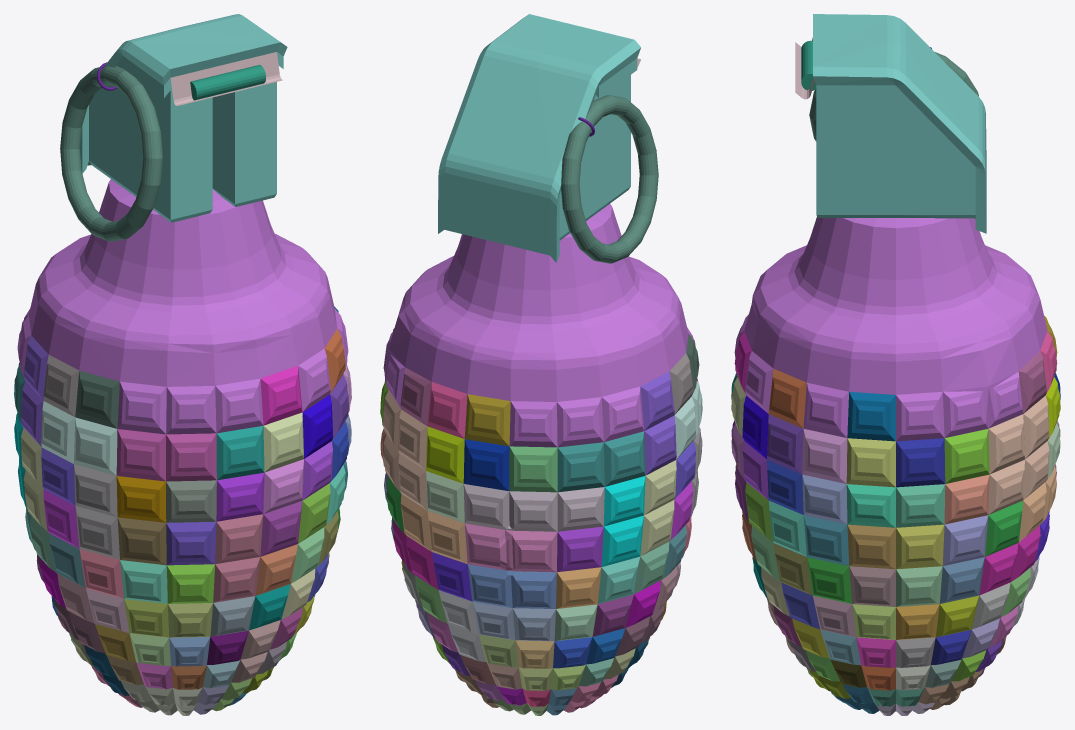
3 views of the same model, side by side, from view 1: azimuth 30°, elevation 25°; view 2: azimuth 150°, elevation 25°; view 3: azimuth 270°, elevation 25° (orthographic). The views are drawn at different scales.
Visible parts, largest first — view 1: world; view 2: world; view 3: world.
Boxes of the visible parts, box(x1,y1,x2,y2) form: world: box(14, 14, 351, 715); world: box(380, 14, 702, 715); world: box(731, 14, 1060, 715).
Size of the model in its own units: 0.8983 by 2 by 0.8983.
